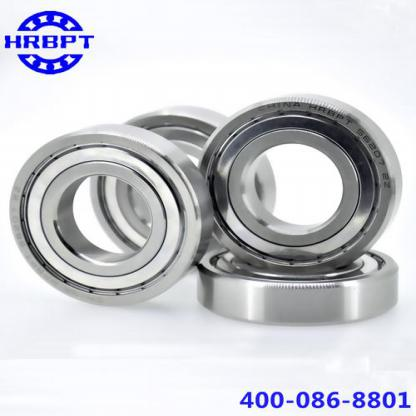FOD: (188, 88, 408, 280), (3, 119, 212, 310), (88, 102, 276, 270), (191, 235, 401, 328)
